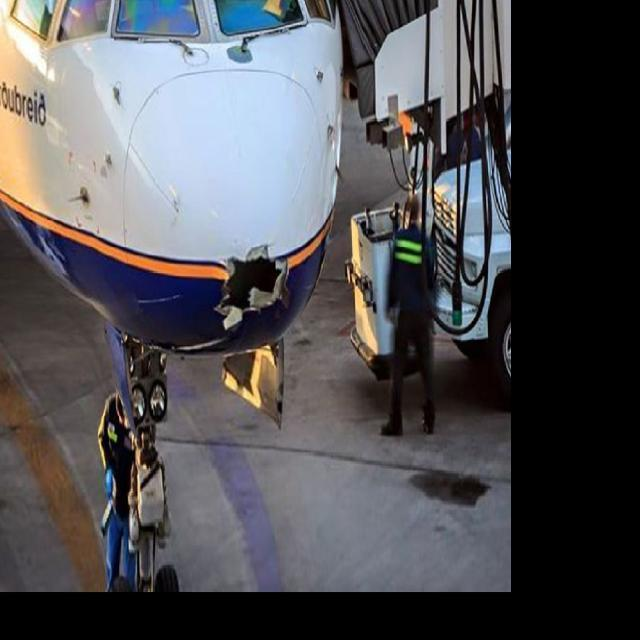crack: (213, 239, 293, 340)
